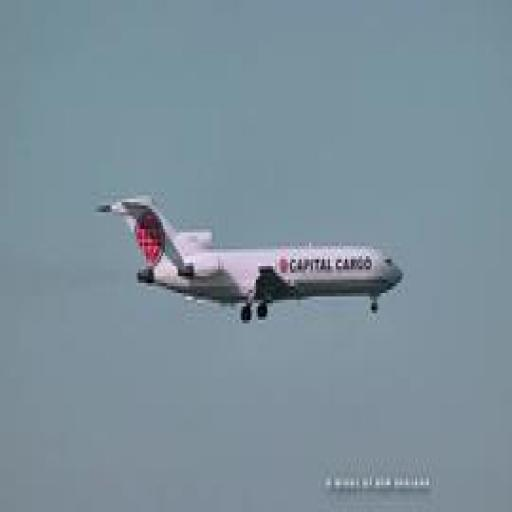aircraft: (95, 196, 404, 324)
